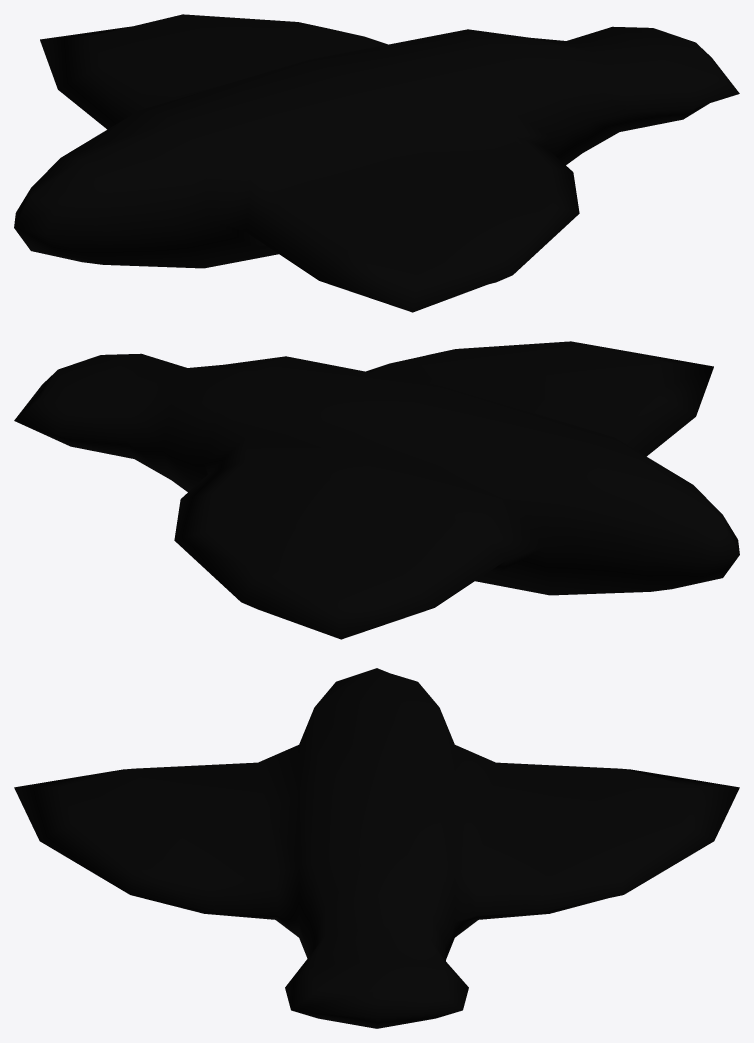
Rendered from bird.fbx.
The picture shows the model from 3 angles, top to bottom: view 1: azimuth 30°, elevation 25°; view 2: azimuth 150°, elevation 25°; view 3: azimuth 270°, elevation 25°; orthographic projection. The views are drawn at different scales.
Parts seen in each view (by area): view 1: pCube63; view 2: pCube63; view 3: pCube63.
Boxes of the visible parts, left/top/right/bottom form: pCube63: left=14, top=14, right=739, bottom=312; pCube63: left=14, top=341, right=739, bottom=639; pCube63: left=14, top=668, right=739, bottom=1028.
Size of the model in its own units: 301 by 59.87 by 279.
